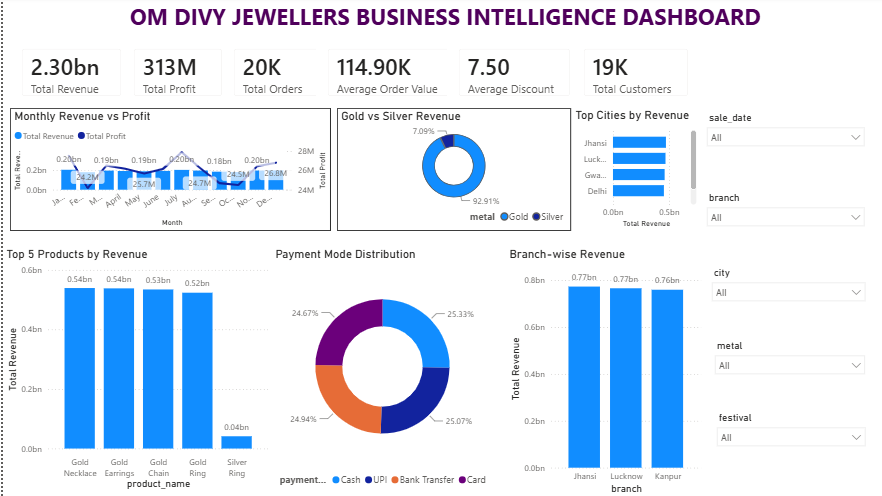

Layout of this report page (visuals, bound fields, positions):
{"tool":"powerbi","page":{"name":"execute dashboard","canvas":[1280,720],"ordinal":0},"visuals":[{"type":"textbox","box":[10.1,0,1254.2,67.7],"z":0},{"type":"cardVisual","fields":{"Data":["sales_data.Total Revenue"]},"box":[10.1,57.6,177.1,102.2],"z":1000},{"type":"cardVisual","fields":{"Data":["sales_data.Total Orders"]},"box":[315.4,57.6,167,102.2],"z":2000},{"type":"cardVisual","fields":{"Data":["sales_data.Average Order Value"]},"box":[450.7,57.6,214.6,102.2],"z":3000},{"type":"cardVisual","fields":{"Data":["sales_data.Average Discount"]},"box":[639.4,57.6,194.4,102.2],"z":4000},{"type":"cardVisual","fields":{"Data":["sales_data.Total Customers"]},"box":[819.4,57.6,184.3,102.2],"z":5000},{"type":"cardVisual","fields":{"Data":["sales_data.Total Profit"]},"box":[171.4,57.6,161.3,102.2],"z":6000},{"type":"lineClusteredColumnComboChart","title":"Monthly Revenue vs Profit","fields":{"Category":["sales_data.sale_date.Variation.Date Hierarchy.Month"],"Y":["sales_data.Total Revenue"],"Y2":["sales_data.Total Profit"]},"box":[10,160,461.7,176.7],"z":7000},{"type":"donutChart","title":"Gold vs Silver Revenue","fields":{"Category":["sales_data.metal"],"Y":["sales_data.Total Revenue"]},"box":[481.7,160,336.7,176.7],"z":8000},{"type":"clusteredColumnChart","title":"Top 5 Products by Revenue","fields":{"Category":["sales_data.product_name"],"Y":["sales_data.Total Revenue"]},"box":[0,360,387.4,354.2],"z":9000},{"type":"donutChart","title":"Payment Mode Distribution","fields":{"Category":["sales_data.payment_mode"],"Y":["sales_data.Total Orders"]},"box":[387.4,360,318.2,354.2],"z":10000},{"type":"clusteredColumnChart","title":"Branch-wise Revenue","fields":{"Category":["sales_data.branch"],"Y":["sales_data.Total Revenue"]},"box":[724.3,359.5,286.5,360.8],"z":11000},{"type":"clusteredBarChart","title":"Top Cities by Revenue","fields":{"Category":["sales_data.city"],"Y":["sales_data.Total Revenue"]},"box":[819,160,184,177],"z":12000},{"type":"slicer","fields":{"Values":["sales_data.sale_date"]},"box":[1004.1,159.5,247.3,78.4],"z":13000},{"type":"slicer","fields":{"Values":["sales_data.branch"]},"box":[1004.1,275.7,247.3,83.8],"z":14000},{"type":"slicer","fields":{"Values":["sales_data.city"]},"box":[1010.8,382.4,240.5,71.6],"z":15000},{"type":"slicer","fields":{"Values":["sales_data.metal"]},"box":[1014.9,487.8,236.5,95.9],"z":16000},{"type":"slicer","fields":{"Values":["sales_data.festival"]},"box":[1017.6,591.9,233.8,79.7],"z":17000}]}

Visuals, with their boxes in screenshot pixels (x1, y1, x2, y2), scaled from the page's 1280x720 canvas onto the 882x496 screenshot:
textbox: <region>7, 0, 871, 47</region>
cardVisual - sales_data.Total Revenue: <region>7, 40, 129, 110</region>
cardVisual - sales_data.Total Orders: <region>217, 40, 332, 110</region>
cardVisual - sales_data.Average Order Value: <region>311, 40, 458, 110</region>
cardVisual - sales_data.Average Discount: <region>441, 40, 575, 110</region>
cardVisual - sales_data.Total Customers: <region>565, 40, 692, 110</region>
cardVisual - sales_data.Total Profit: <region>118, 40, 229, 110</region>
"Monthly Revenue vs Profit" lineClusteredColumnComboChart: <region>7, 110, 325, 232</region>
"Gold vs Silver Revenue" donutChart: <region>332, 110, 564, 232</region>
"Top 5 Products by Revenue" clusteredColumnChart: <region>0, 248, 267, 492</region>
"Payment Mode Distribution" donutChart: <region>267, 248, 486, 492</region>
"Branch-wise Revenue" clusteredColumnChart: <region>499, 248, 697, 495</region>
"Top Cities by Revenue" clusteredBarChart: <region>564, 110, 691, 232</region>
slicer - sales_data.sale_date: <region>692, 110, 862, 164</region>
slicer - sales_data.branch: <region>692, 190, 862, 248</region>
slicer - sales_data.city: <region>697, 263, 862, 313</region>
slicer - sales_data.metal: <region>699, 336, 862, 402</region>
slicer - sales_data.festival: <region>701, 408, 862, 463</region>
